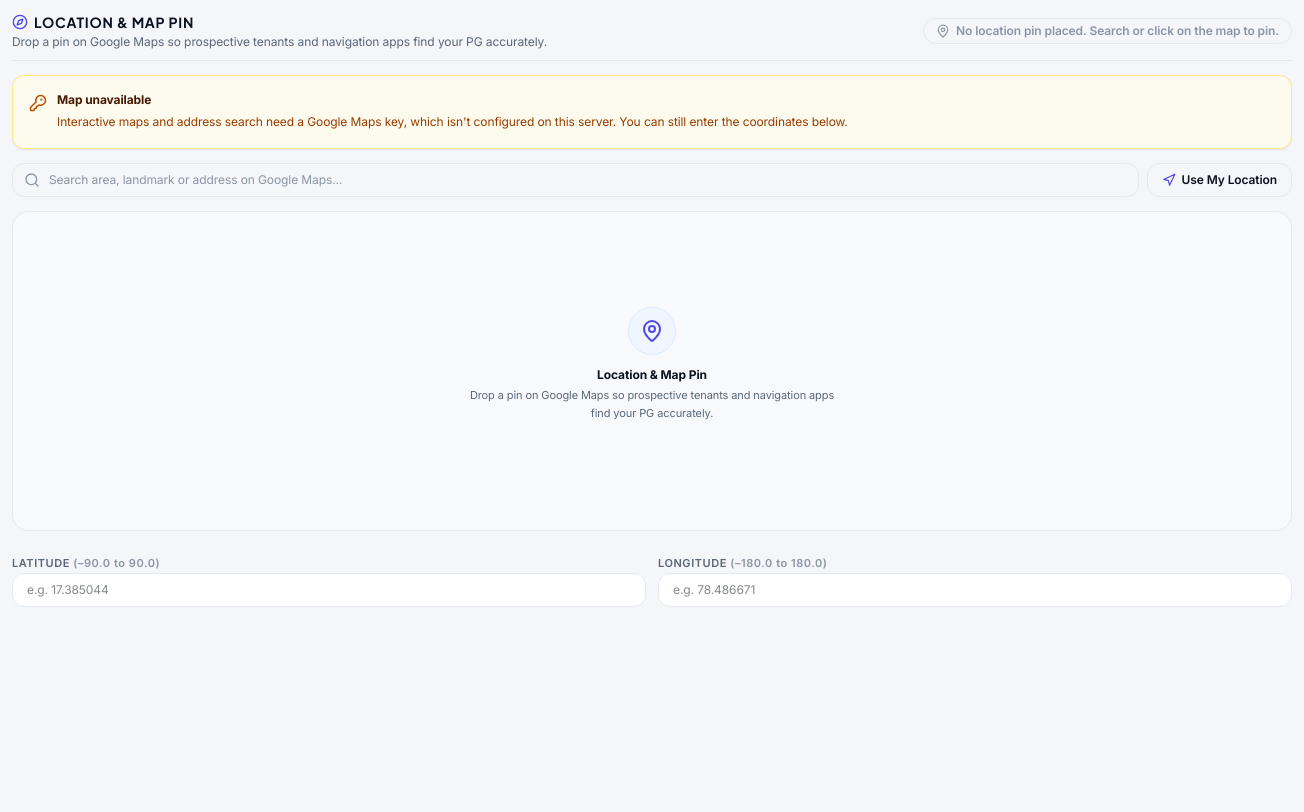
Scenario: PropertyMapPicker › use my location › a denied permission shows the reason inline
Click the button "Use My Location" at (1219, 180), box [1146,162,1292,196]
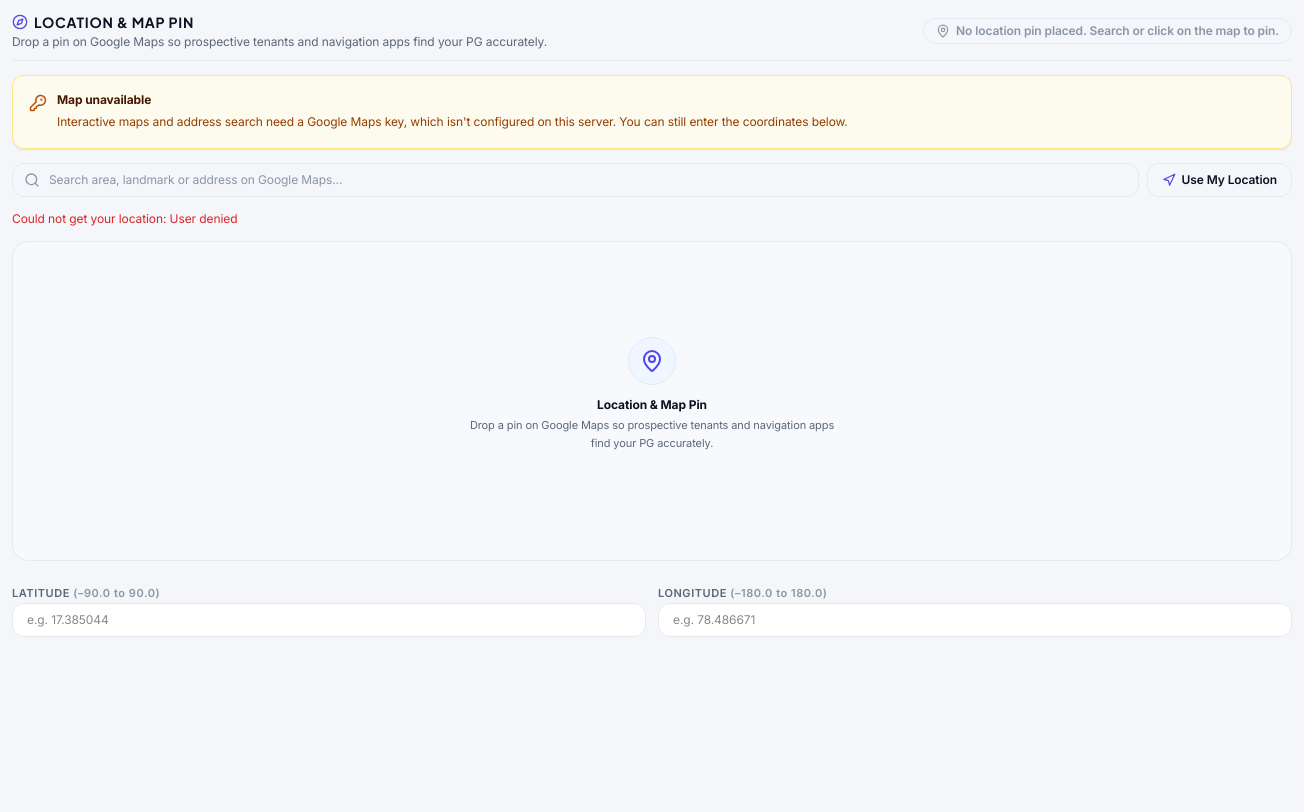
Result: the message reads "Could not get your location: User denied" at [12,210,237,226]
